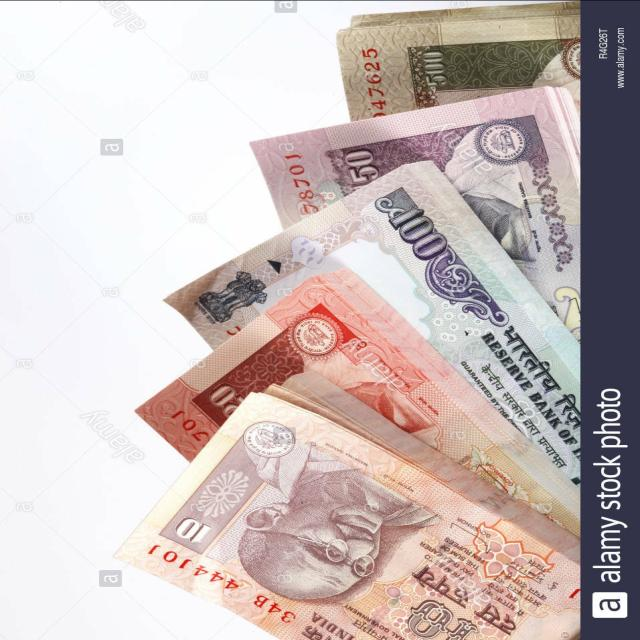10IndianRupees: (115, 380, 581, 640)
